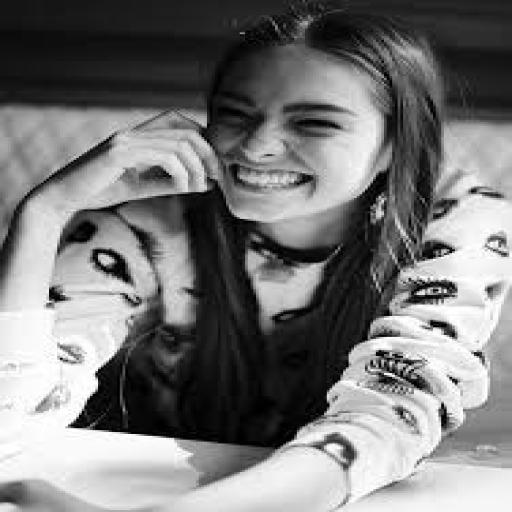laughing: (2, 4, 506, 508)
